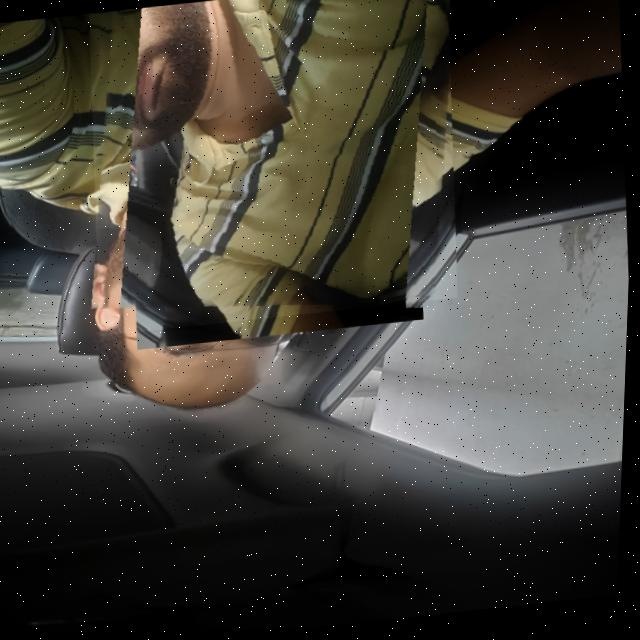no-seatbelt: (78, 0, 468, 335)
